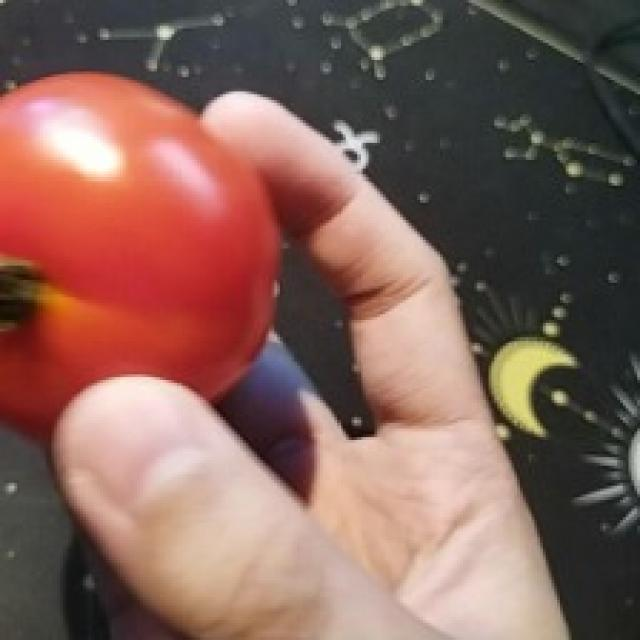Fresh Tomato: (0, 61, 279, 469)
